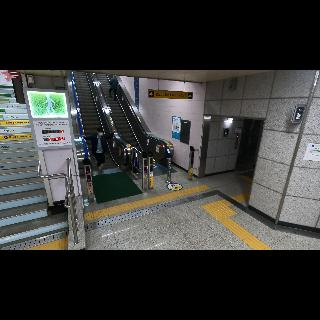normal: (82, 128, 116, 172), (104, 74, 120, 100)
